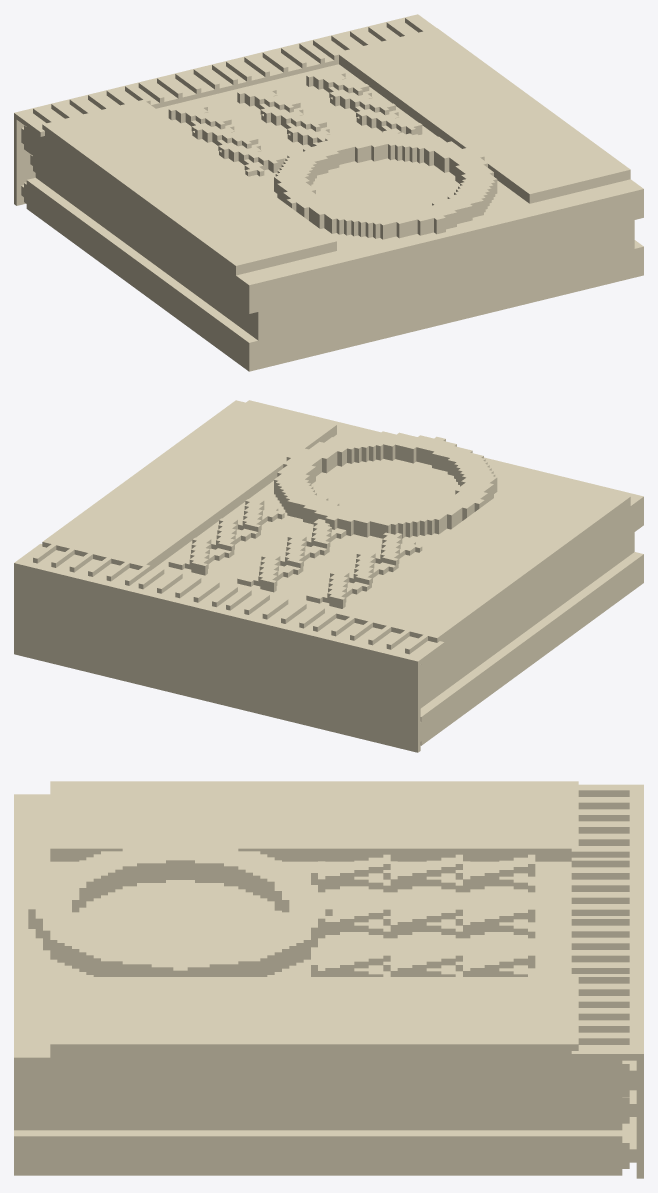
File: sweater.glb
The picture shows the model from 3 angles, top to bottom: view 1: azimuth 30°, elevation 25°; view 2: azimuth 150°, elevation 25°; view 3: azimuth 270°, elevation 25°; orthographic projection. The views are drawn at different scales.
Parts seen in each view (by area): view 1: sweater:compound; view 2: sweater:compound; view 3: sweater:compound.
Boxes of the visible parts, bbox=[...] form: sweater:compound: bbox=[14, 14, 643, 371]; sweater:compound: bbox=[14, 400, 643, 752]; sweater:compound: bbox=[14, 781, 643, 1178].
Size of the model in its own units: 0.352 by 0.084 by 0.348.
